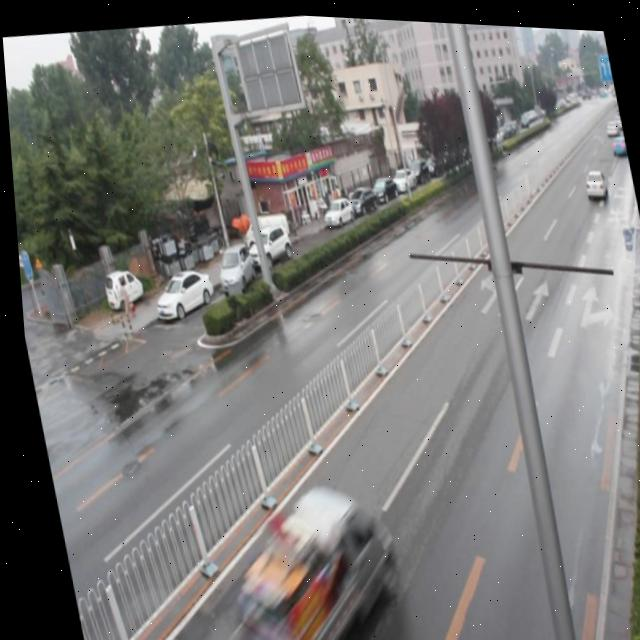bus: (205, 474, 399, 640)
car: (577, 160, 604, 192)
